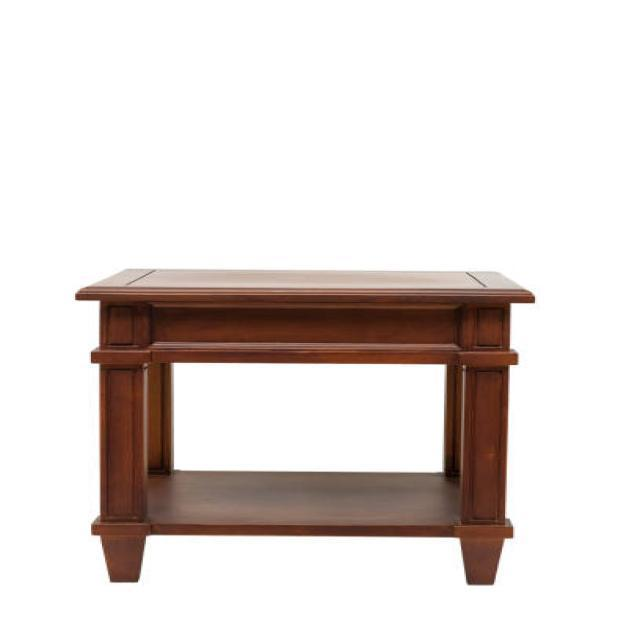table: (74, 266, 535, 586)
